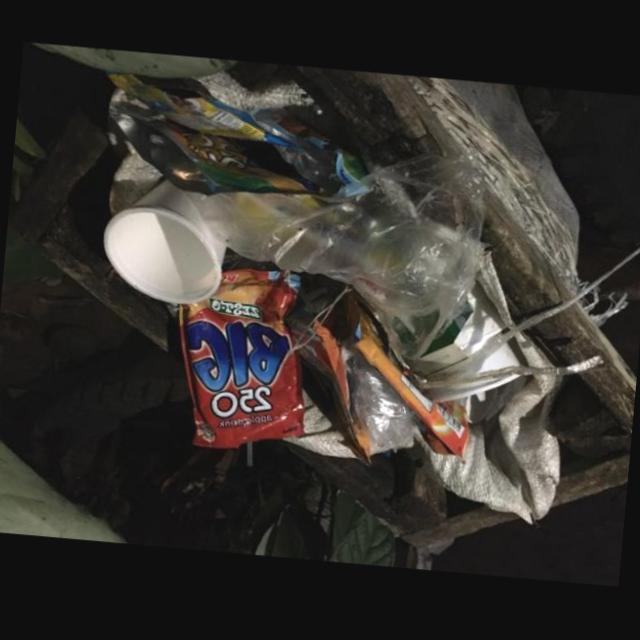bao_bi_thuc_pham: (106, 72, 369, 197), (177, 265, 309, 448), (354, 305, 470, 455), (286, 305, 371, 465)
hop_nhua: (101, 177, 225, 302)
ong_hut_nhua: (246, 441, 254, 466)
tui_ni_long: (200, 133, 484, 357)
